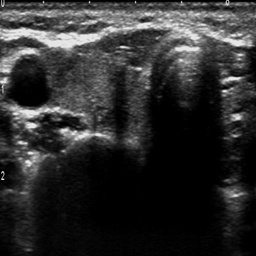mass: (95, 66, 134, 132)
